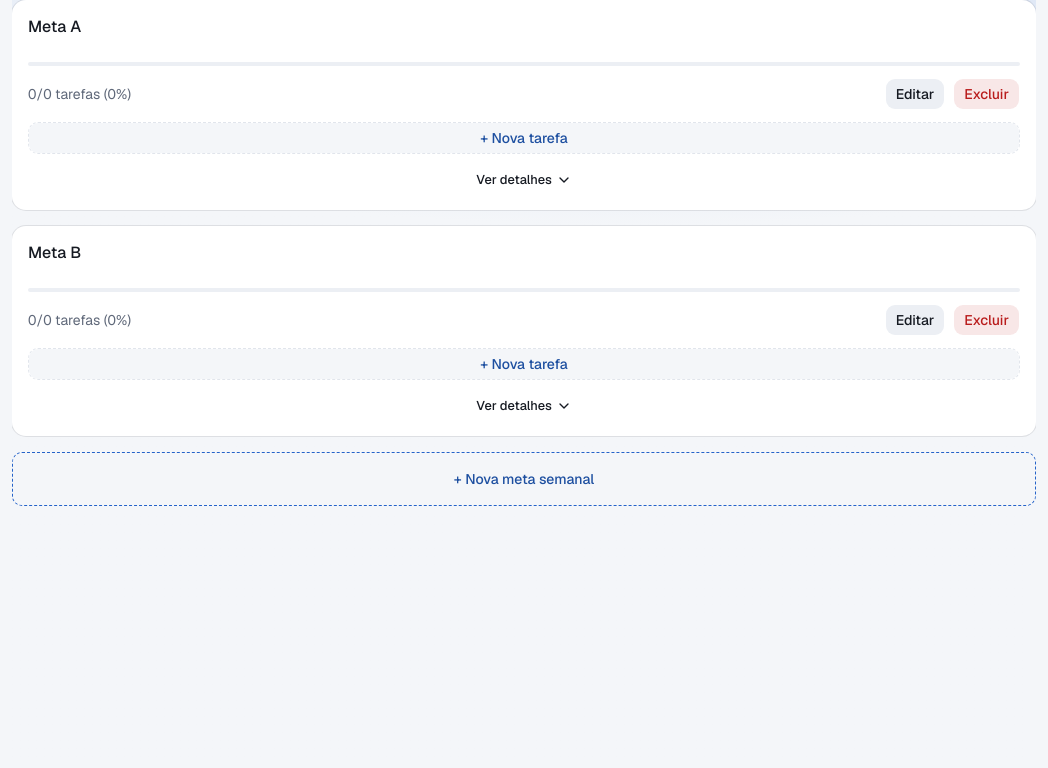
Scenario: WeeklyGoalsPanel › expanding one card collapses any previously expanded card
The image size is (1048, 768).
What coordinates should you click on to do the following:
click the button "Ver detalhes" below "Meta A"
I would click on:
 (524, 180)
Its box is x1=28 y1=166 x2=1020 y2=194.
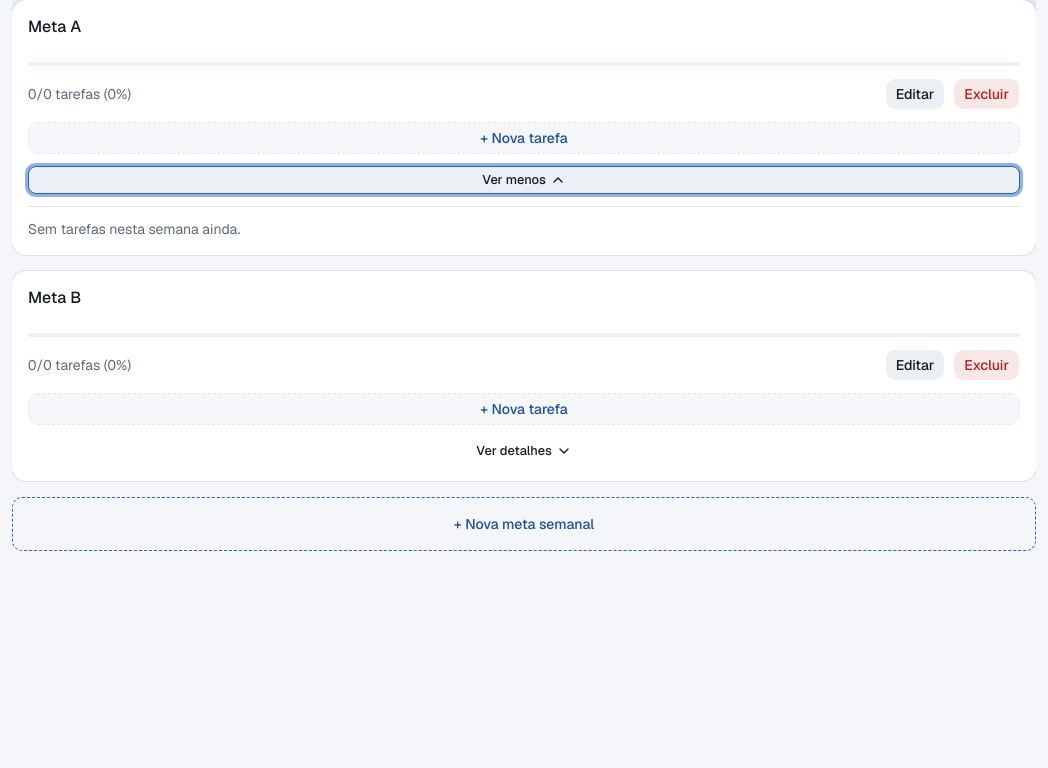
expect the button "Ver menos" is shown: met, box x1=28 y1=166 x2=1020 y2=194
What coordinates should you click on to do the following:
click the button "Ver detalhes"
I would click on:
 (524, 451)
Its box is x1=28 y1=437 x2=1020 y2=465.
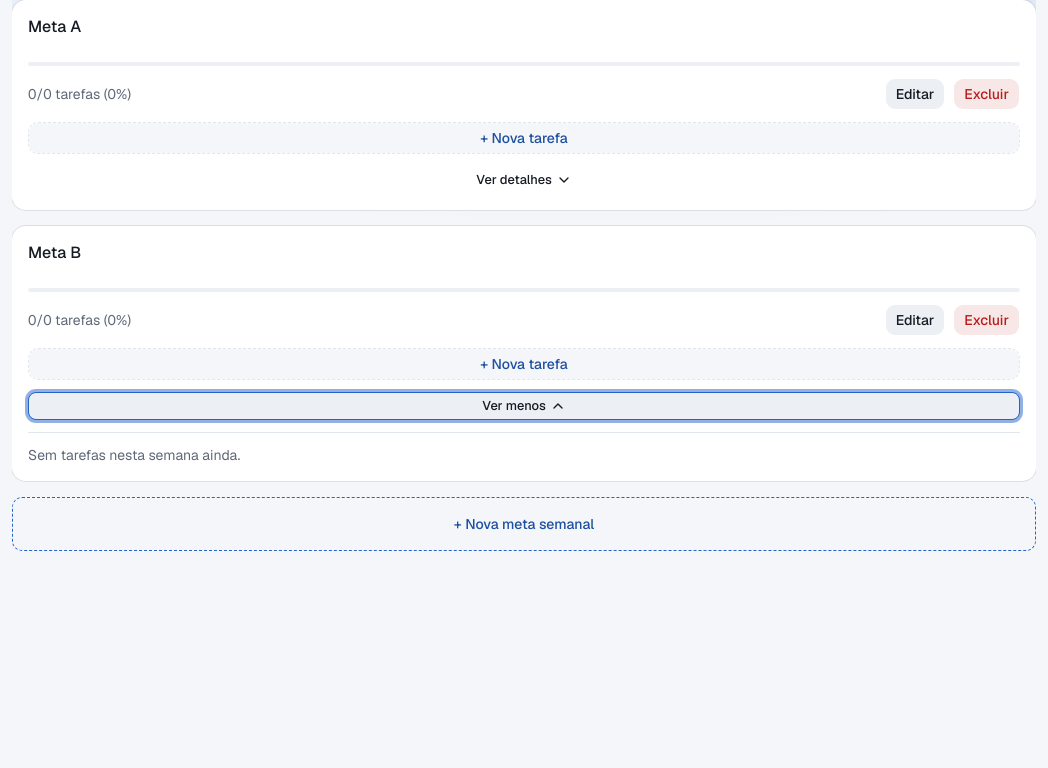
expect the number of buttons "Ver detalhes" is 1: met, box x1=28 y1=166 x2=1020 y2=194
expect the button "Ver menos" is shown: met, box x1=28 y1=392 x2=1020 y2=420
